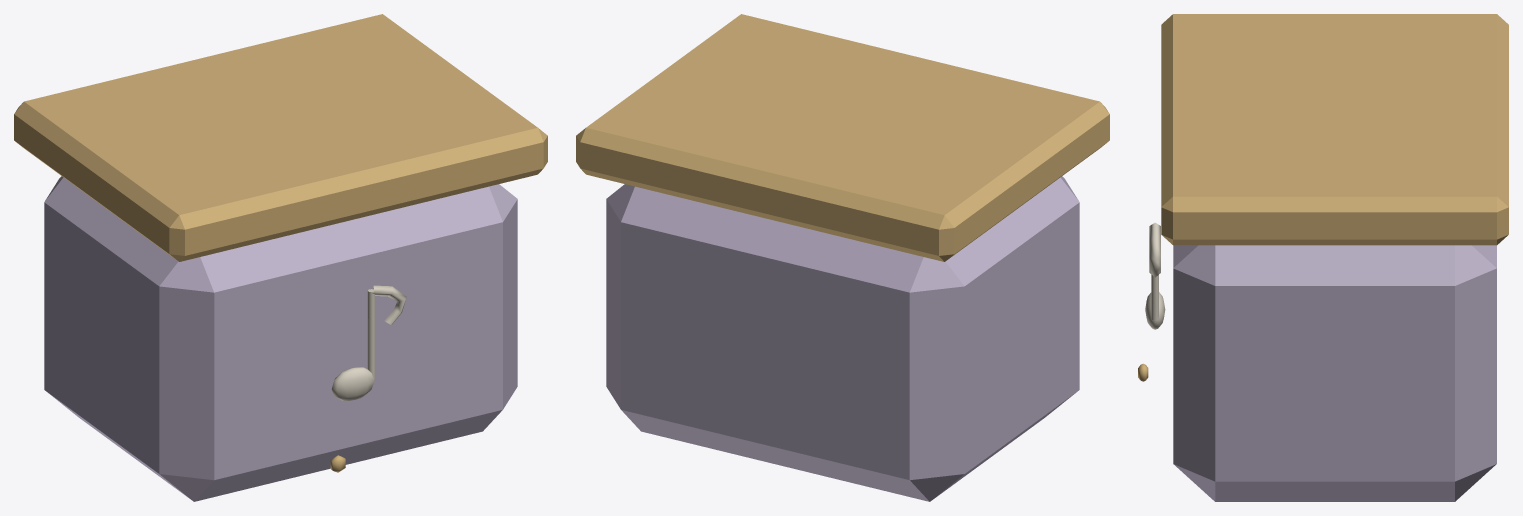
3 views of the same model, side by side, from view 1: azimuth 30°, elevation 25°; view 2: azimuth 150°, elevation 25°; view 3: azimuth 270°, elevation 25° (orthographic). The views are drawn at different scales.
Visible parts, largest first — view 1: g_s27; view 2: g_s27; view 3: g_s27.
Boxes of the visible parts, bbox=[...] form: g_s27: bbox=[14, 14, 547, 501]; g_s27: bbox=[576, 14, 1109, 501]; g_s27: bbox=[1138, 14, 1508, 501].
Bounding box in the file's own units: 0.38 × 0.2975 × 0.3093.
